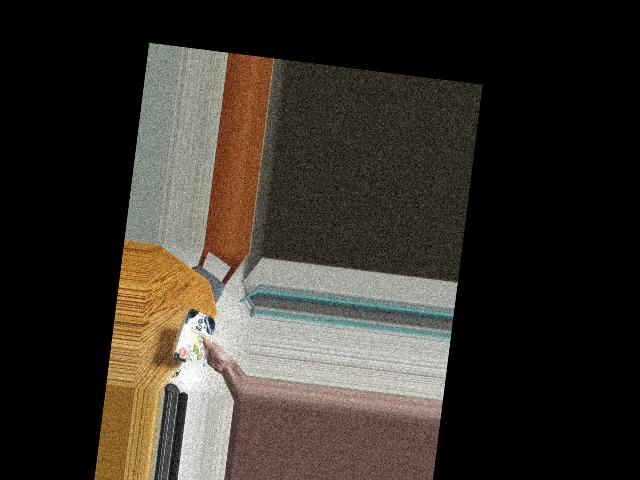cheese: (178, 306, 219, 370)
